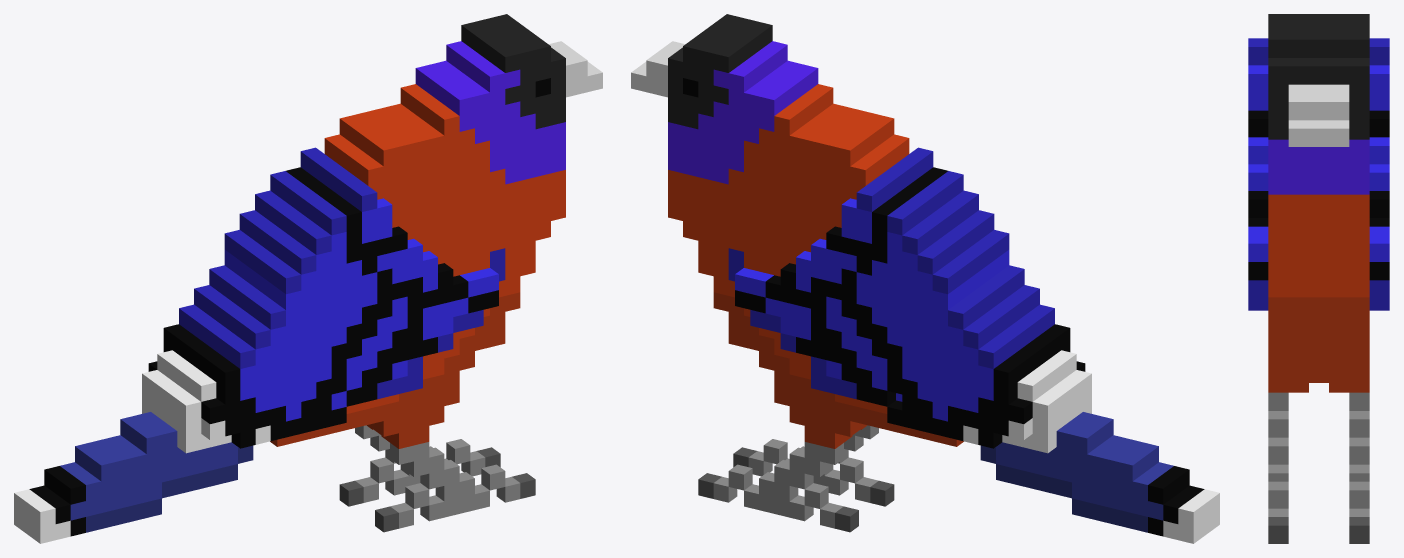
The model's file is rurikakesu.glb.
3 views of the same model, side by side, from view 1: azimuth 30°, elevation 25°; view 2: azimuth 150°, elevation 25°; view 3: azimuth 270°, elevation 25° (orthographic). The views are drawn at different scales.
Parts seen in each view (by area): view 1: Untitled; view 2: Untitled; view 3: Untitled.
Part boxes in pixels (bbox=[...]): Untitled: bbox=[14, 14, 602, 543]; Untitled: bbox=[631, 14, 1219, 543]; Untitled: bbox=[1248, 14, 1389, 543].
Size of the model in its own units: 0.74 by 0.56 by 0.14.
1 material, 1 textured.
